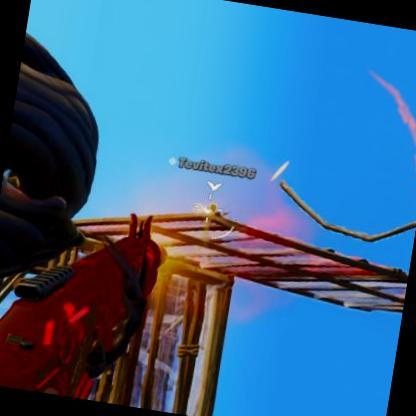person: (201, 198, 222, 234)
